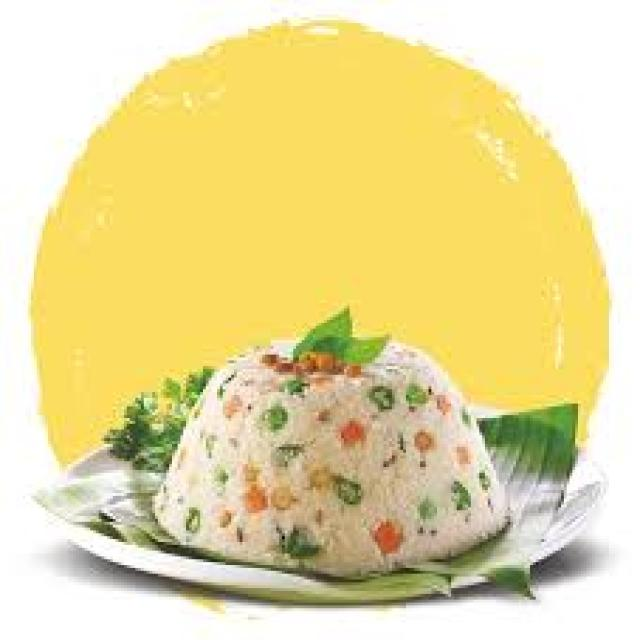Wet Waste: (153, 306, 511, 559)
